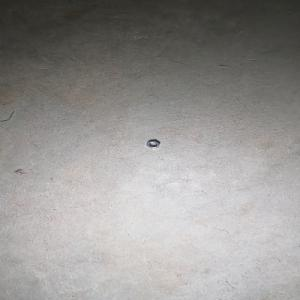Nut: (146, 141, 160, 149)
